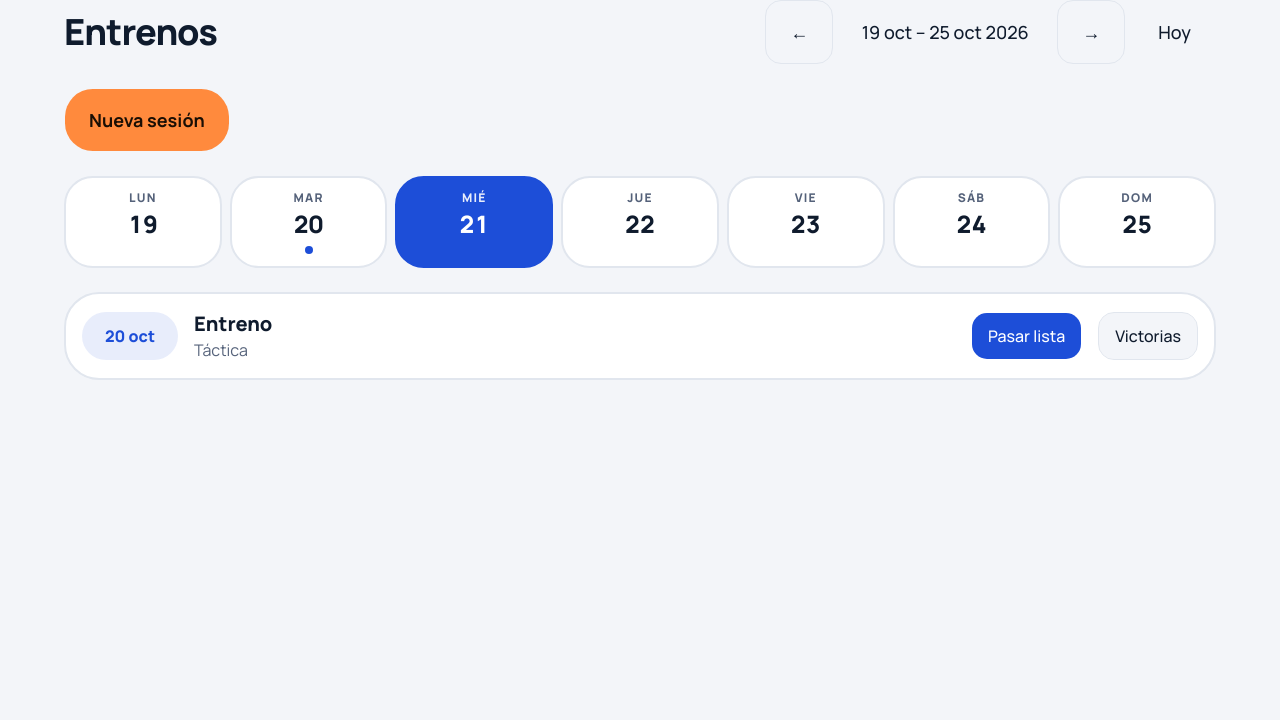
EntrenosPage › muestra la lista ya guardada de la sesión
Check: the text "Táctica" is shown, box 194,339 -> 248,361
Click the button with aria-label "Pasar lista: Entreno 20 oct": (1027, 336) 971,312 -> 1082,360
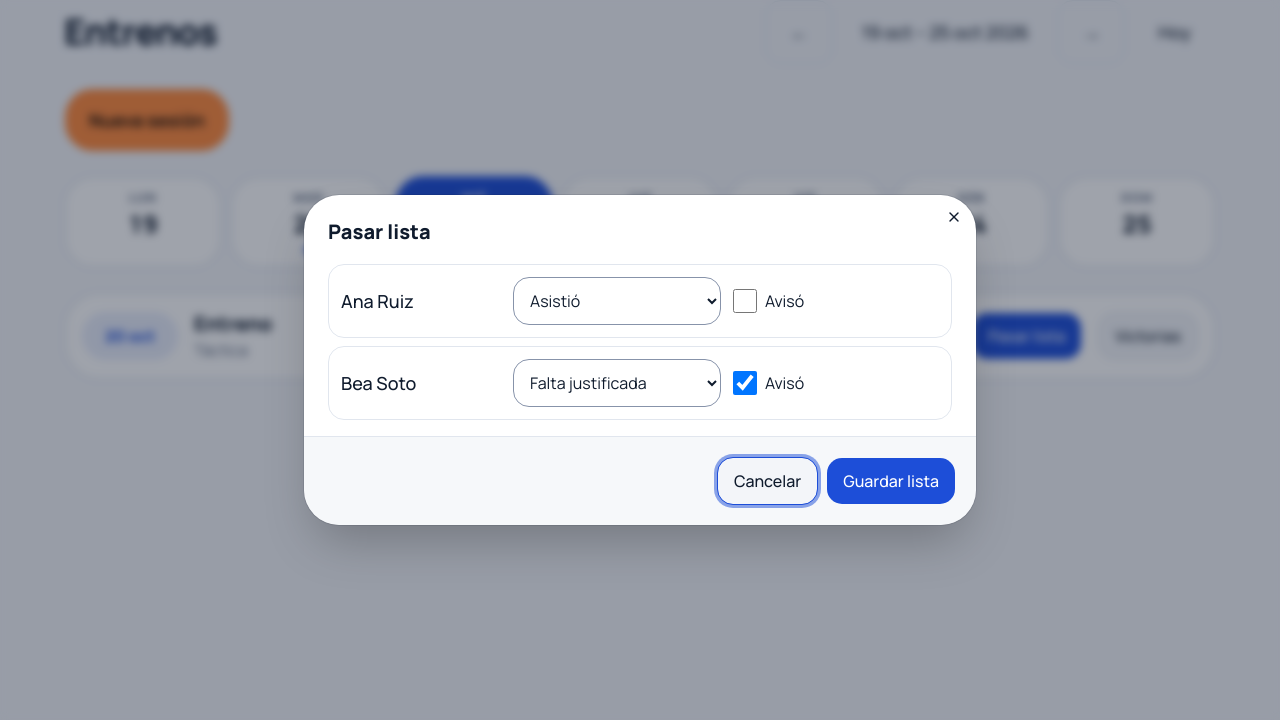
Check: the text "Ana Ruiz" is shown, box 341,289 -> 414,313
Check: the dropdown named "Estado de Bea Soto" shows "Falta justificada", box 513,359 -> 721,407
Check: the checkbox named "Avisó Bea Soto" is checked, box 733,371 -> 757,395
